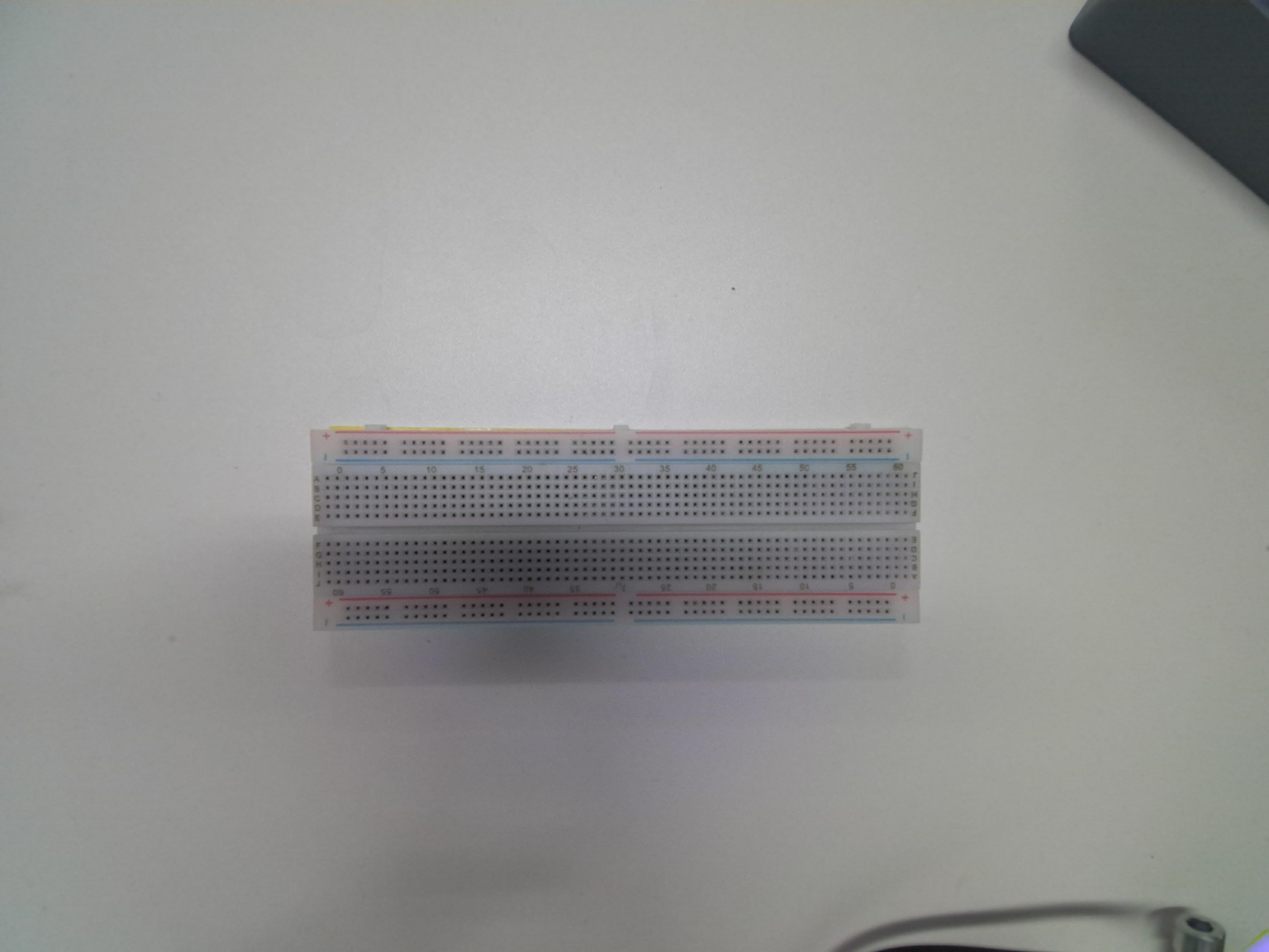base: (307, 426, 924, 630)
